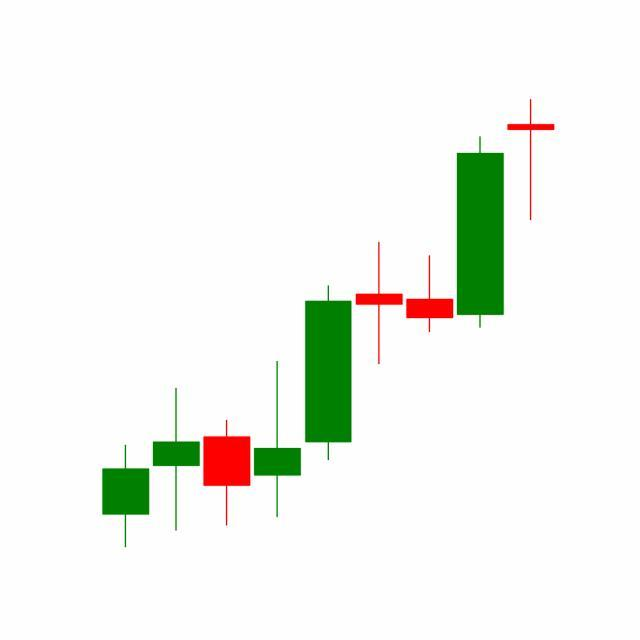Hikkake Pattern: (252, 132, 506, 522)
